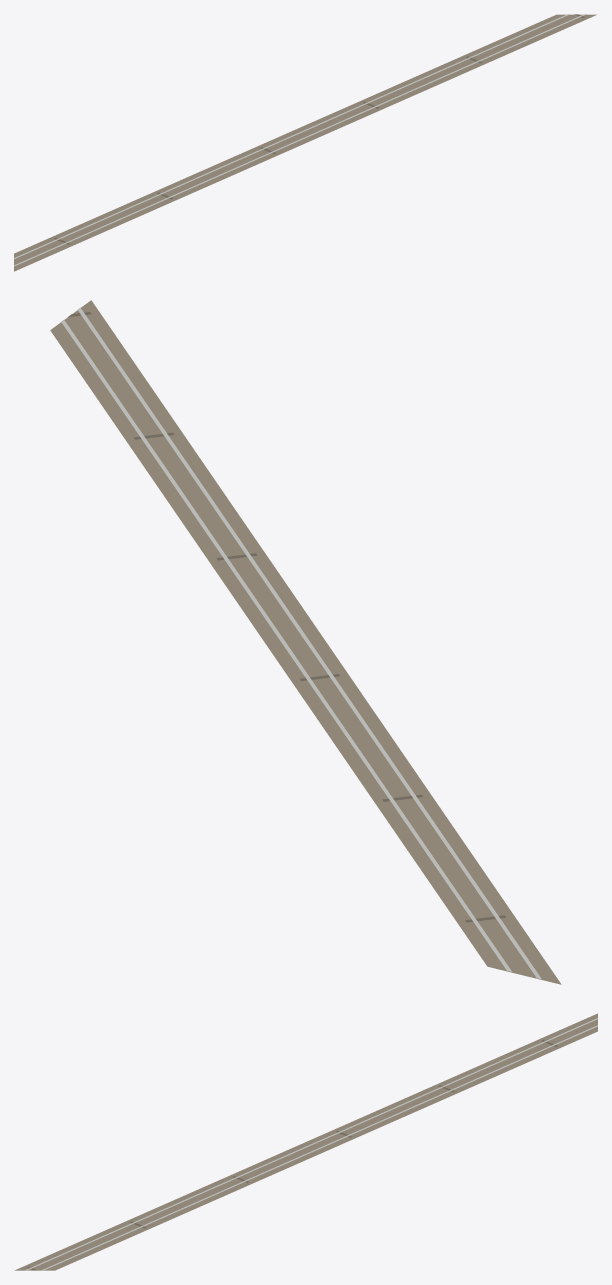
The picture shows the model from 3 angles, top to bottom: view 1: azimuth 90°, elevation 25°; view 2: azimuth 150°, elevation 25°; view 3: azimuth 270°, elevation 25°; orthographic projection. The views are drawn at different scales.
Visible parts, largest first — view 1: rail; view 2: rail; view 3: rail.
Boxes of the visible parts, <box> form: rail: <box>14,14,596,271</box>; rail: <box>50,300,561,984</box>; rail: <box>14,1013,597,1270</box>.
Size of the model in its own units: 73.71 by 0.04 by 70.71.
